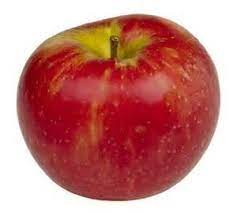apple: (14, 12, 224, 201)
